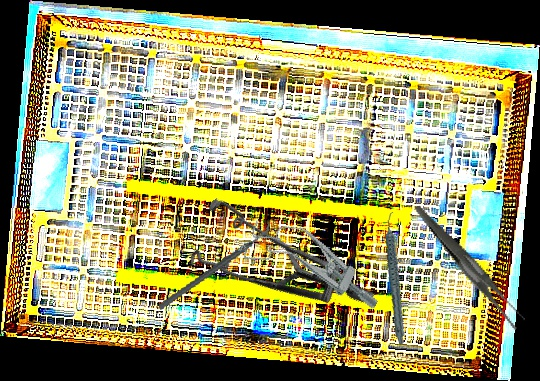Chopper: (146, 219, 284, 312)
Dressing Forceps: (414, 184, 528, 348)
Handpiece: (370, 211, 423, 345)
Speculum: (166, 155, 376, 373), (236, 207, 392, 319)
